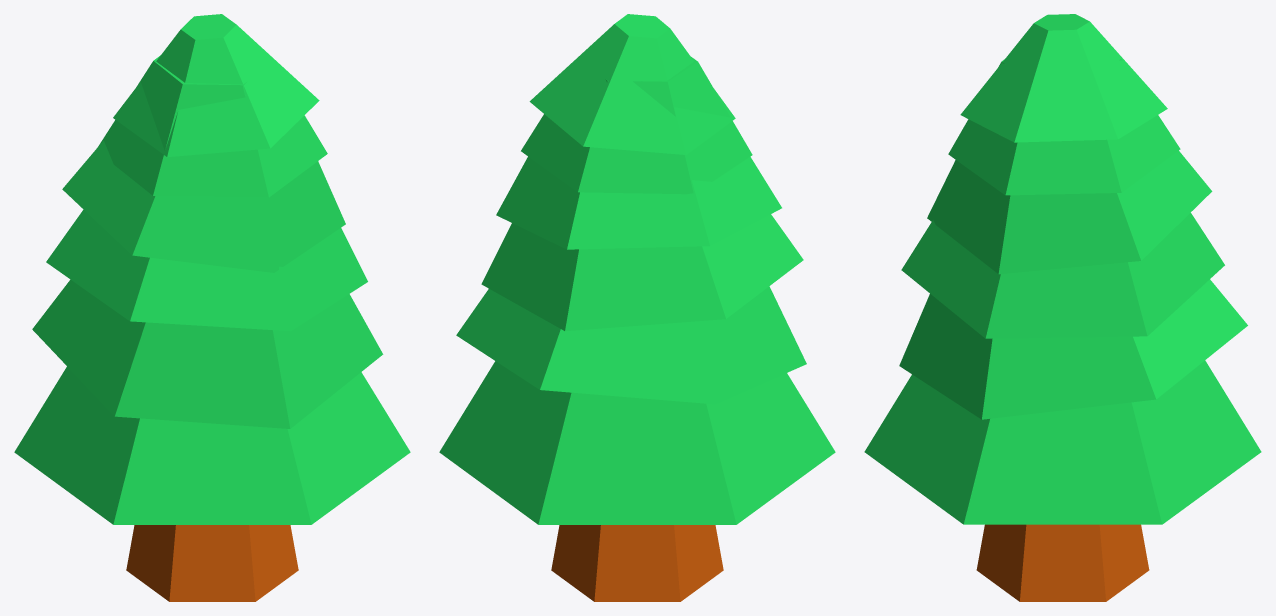
The model's file is tree.fbx.
3 views of the same model, side by side, from view 1: azimuth 30°, elevation 25°; view 2: azimuth 150°, elevation 25°; view 3: azimuth 270°, elevation 25° (orthographic).
Visible parts, largest first — view 1: Cylinder.001, Cylinder.002, Cylinder.003, Cylinder.004, Cylinder.006, Cylinder.005, Cylinder; view 2: Cylinder.001, Cylinder.002, Cylinder.003, Cylinder.004, Cylinder.006, Cylinder.005, Cylinder; view 3: Cylinder.001, Cylinder.002, Cylinder.003, Cylinder.004, Cylinder.006, Cylinder, Cylinder.005.
Boxes of the visible parts, x1,y1,x2,y2 form: Cylinder.001: (14,366,410,524); Cylinder.002: (32,279,383,428); Cylinder.003: (46,209,367,331); Cylinder.004: (62,140,345,272); Cylinder.006: (113,14,319,157); Cylinder.005: (98,55,327,197); Cylinder: (126,525,298,601); Cylinder.001: (439,361,835,524); Cylinder.002: (456,286,806,404); Cylinder.003: (481,214,803,331); Cylinder.004: (496,156,781,249); Cylinder.006: (529,14,735,154); Cylinder.005: (521,57,752,194); Cylinder: (551,525,723,601); Cylinder.001: (864,360,1261,524); Cylinder.002: (899,279,1247,419); Cylinder.003: (901,212,1224,338); Cylinder.004: (927,150,1212,274); Cylinder.006: (960,14,1167,142); Cylinder: (976,524,1149,601); Cylinder.005: (948,58,1180,195).
Bounding box in the file's own units: 398 × 701 × 460.
